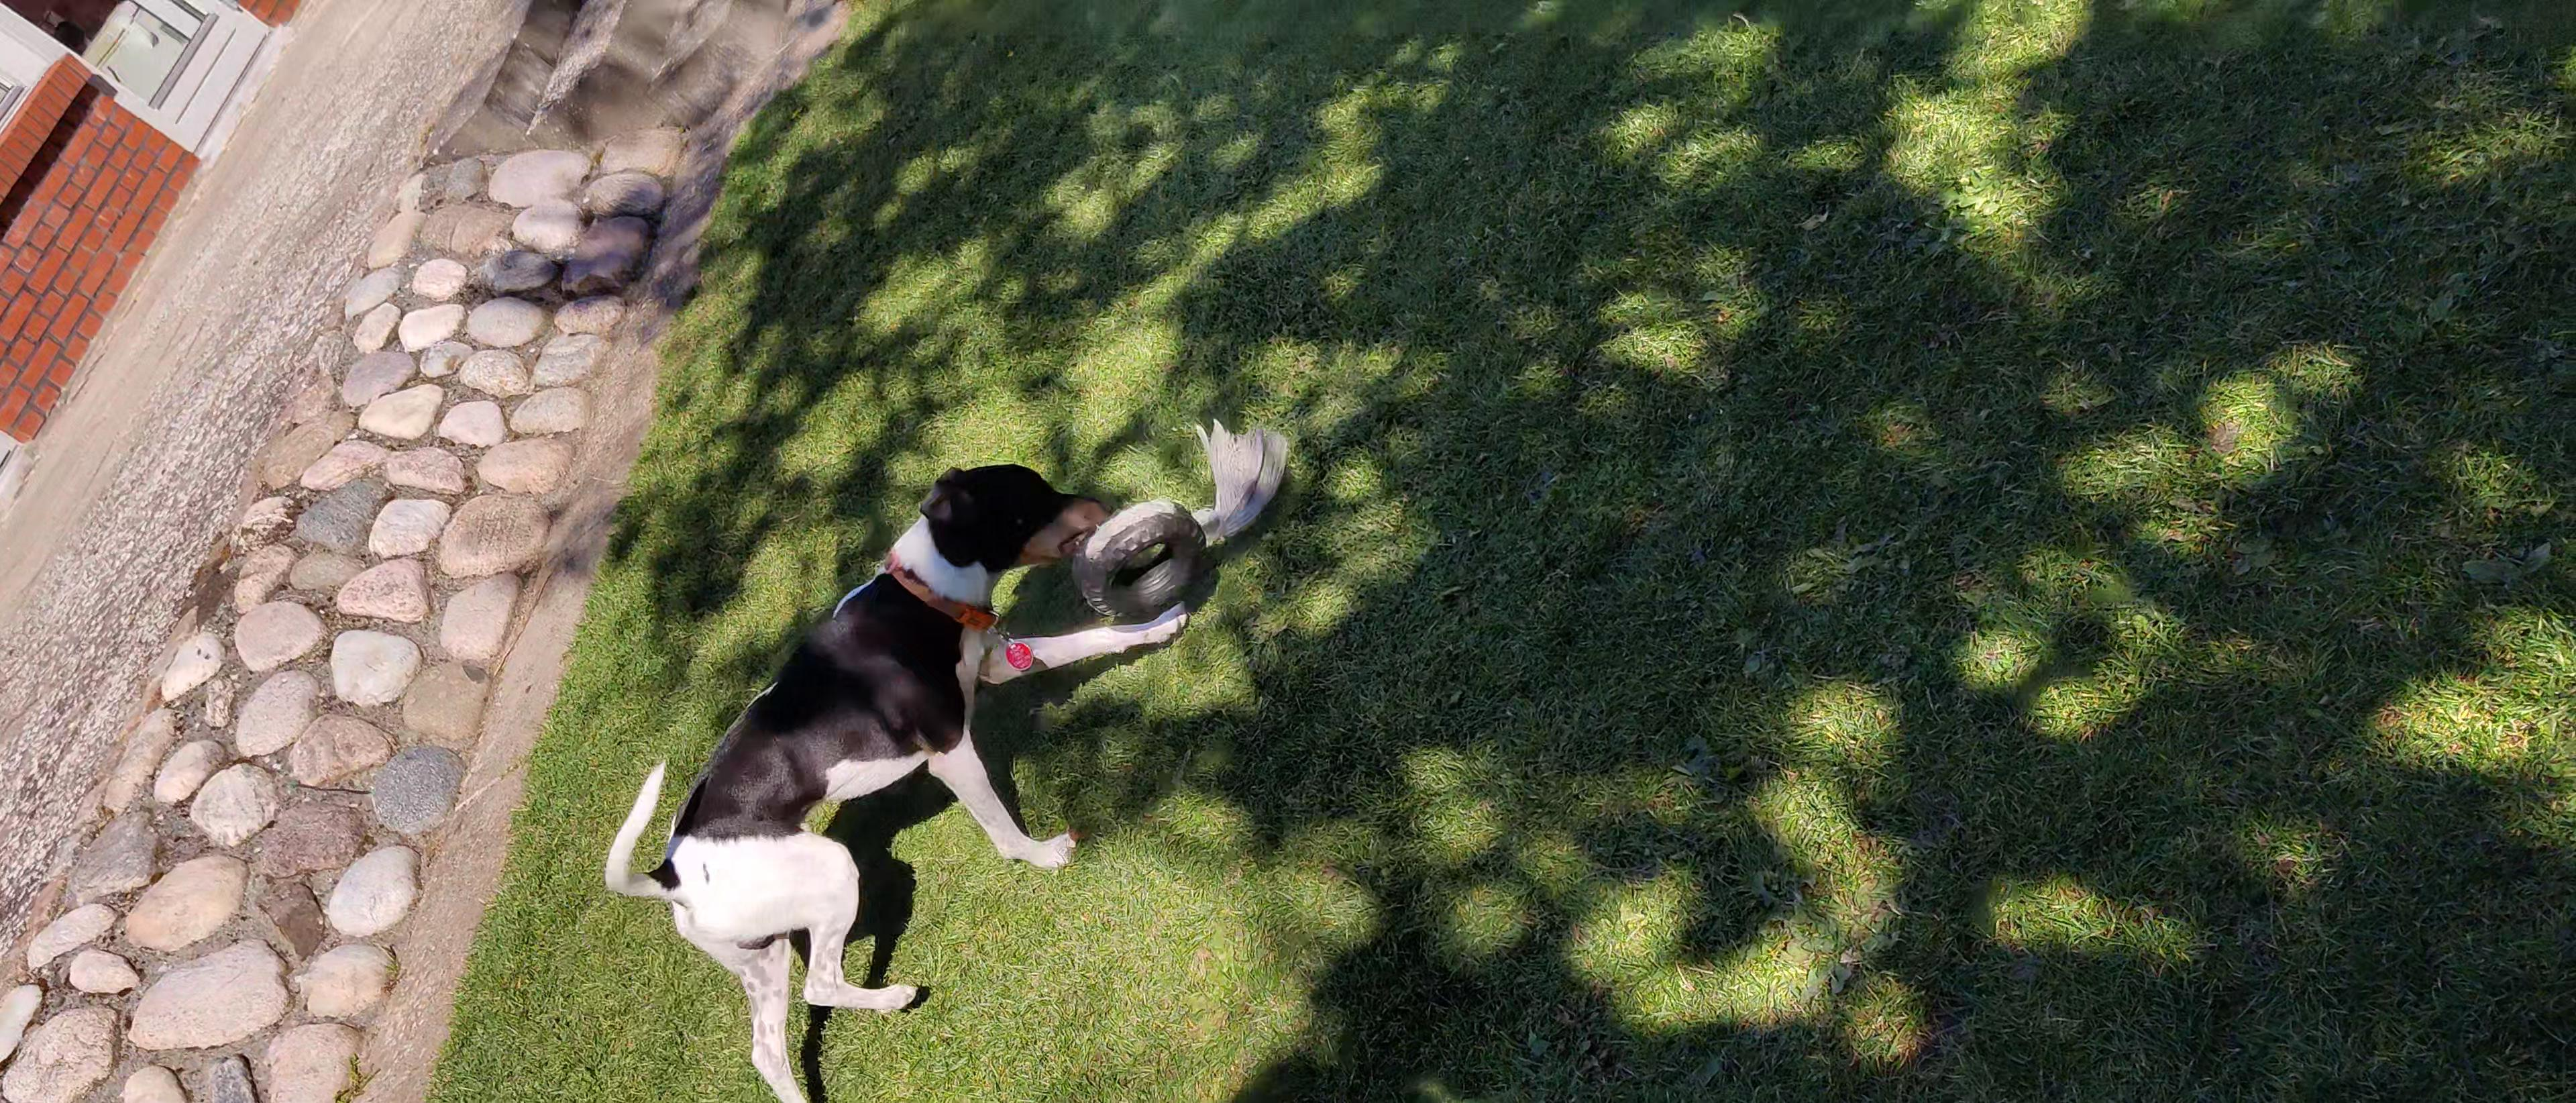Dog: (590, 455, 1196, 1103)
